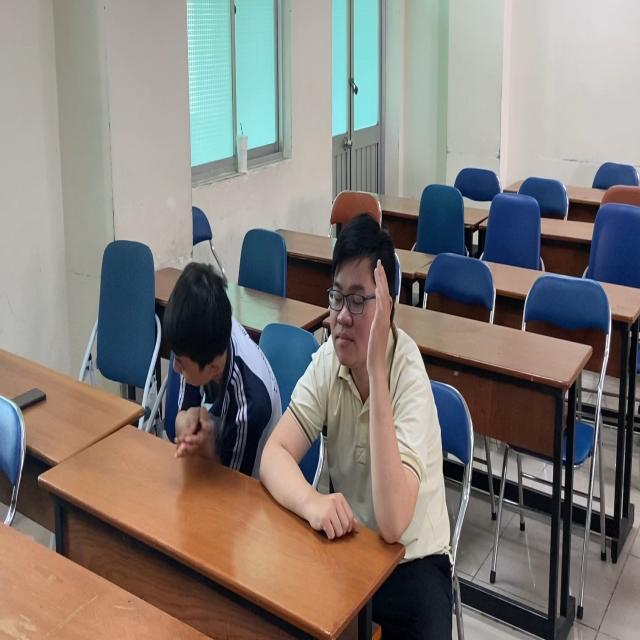raise_hand: (244, 136, 488, 596)
